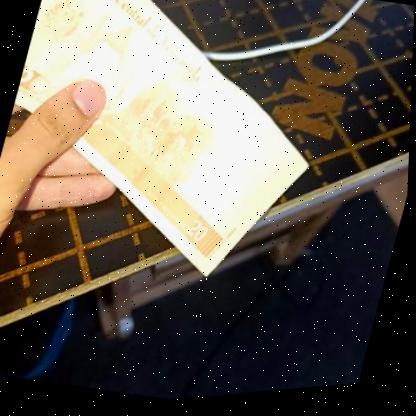twenty-back-vef: (0, 0, 340, 313)
